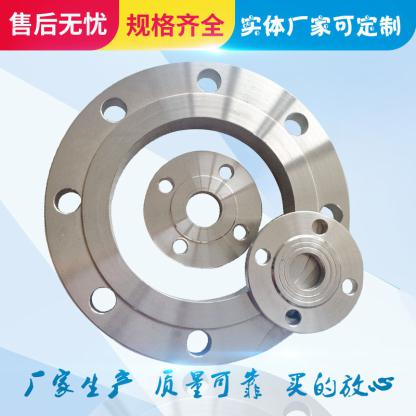FOD: (38, 61, 371, 375), (241, 206, 367, 338), (140, 147, 266, 273)
